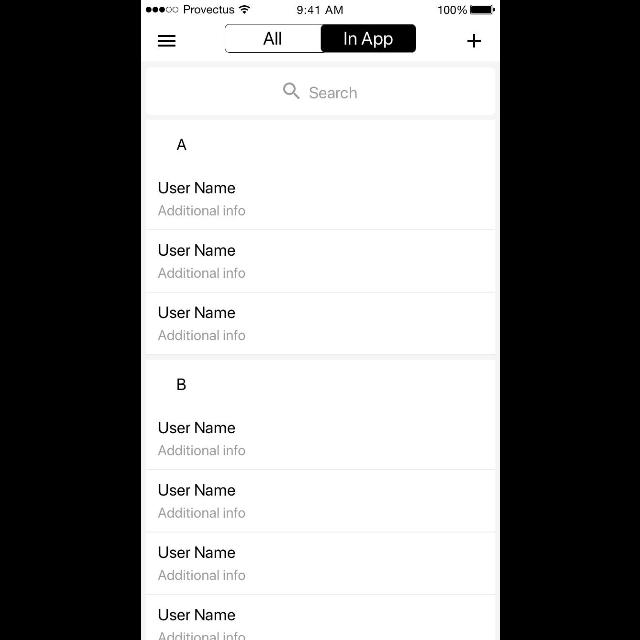icon: (282, 82, 300, 100), (157, 35, 175, 47), (467, 34, 481, 48)
input: (144, 68, 496, 116)
text: (157, 329, 246, 341), (157, 206, 245, 217), (158, 182, 236, 194), (158, 244, 236, 256), (157, 422, 235, 434), (158, 484, 236, 496), (157, 546, 235, 558), (158, 608, 236, 620), (158, 306, 235, 318), (157, 570, 246, 580), (157, 268, 245, 278), (157, 445, 245, 455), (157, 508, 245, 518), (309, 87, 357, 99), (176, 379, 186, 391), (176, 140, 186, 150)
textbutton: (224, 24, 326, 54), (320, 25, 416, 53)
toolbar: (141, 20, 499, 62)
uppertaskbar: (140, 1, 500, 15)
